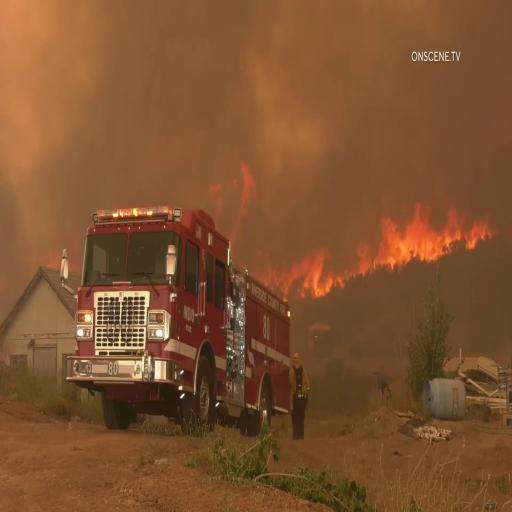fire: (359, 180, 441, 288), (429, 185, 497, 260), (271, 239, 332, 293)
smoke: (191, 2, 317, 160), (343, 86, 434, 170)
